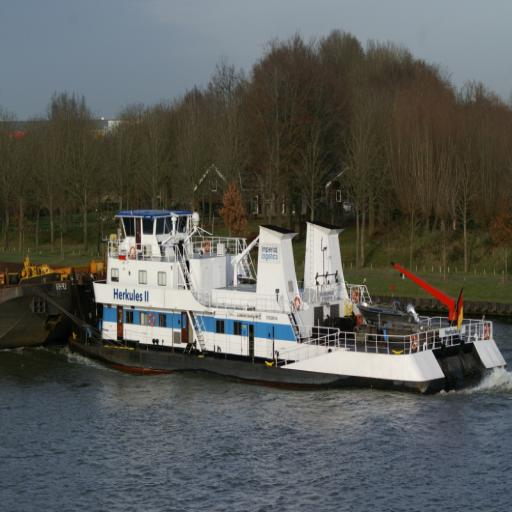tugboat: (55, 193, 510, 412)
